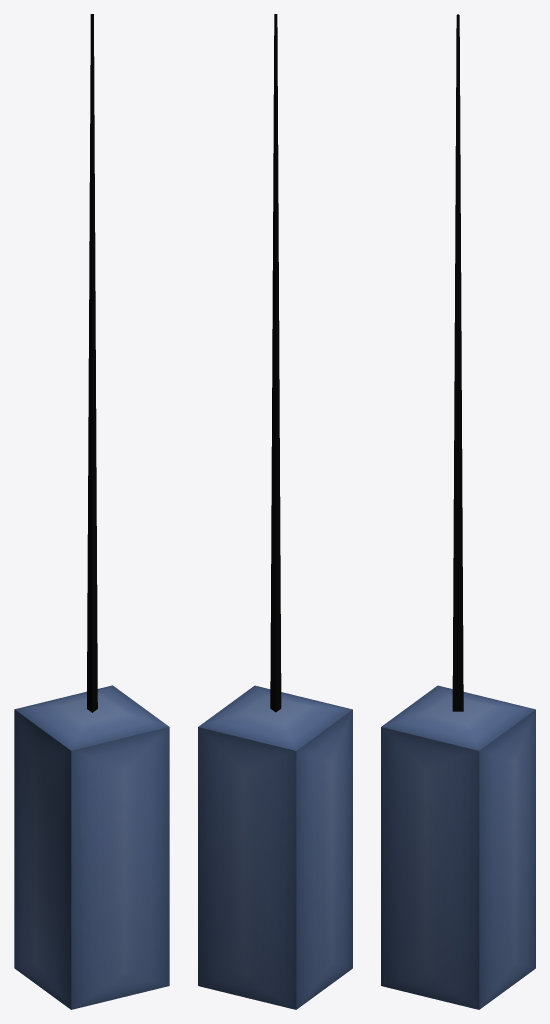
The model's file is LampQuad_Blue.fbx.
The picture shows the model from 3 angles, left to right: view 1: azimuth 30°, elevation 25°; view 2: azimuth 150°, elevation 25°; view 3: azimuth 330°, elevation 25°; orthographic projection.
Parts seen in each view (by area): view 1: LampQuad_Blue; view 2: LampQuad_Blue; view 3: LampQuad_Blue.
Boxes of the visible parts, box(x1,y1,x2,y2) form: LampQuad_Blue: box(14, 14, 169, 1009); LampQuad_Blue: box(198, 14, 352, 1009); LampQuad_Blue: box(381, 14, 535, 1009).
Size of the model in its own units: 18.51 by 151 by 18.51.
